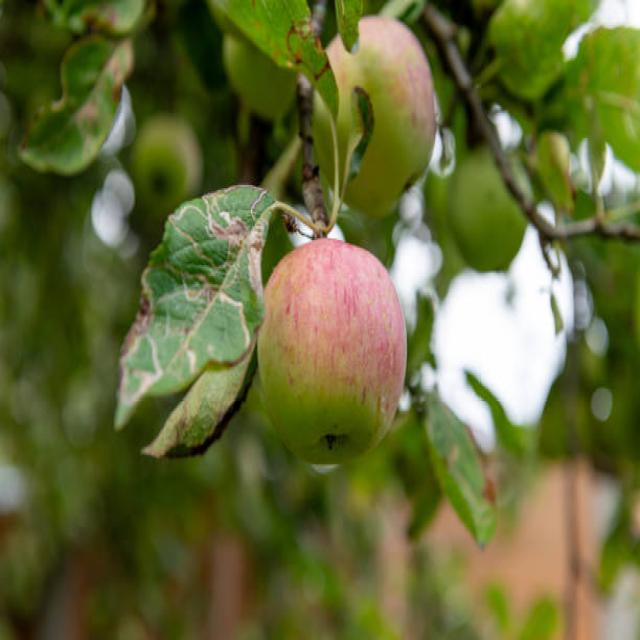Unripe: (254, 237, 408, 466), (311, 14, 436, 214)
